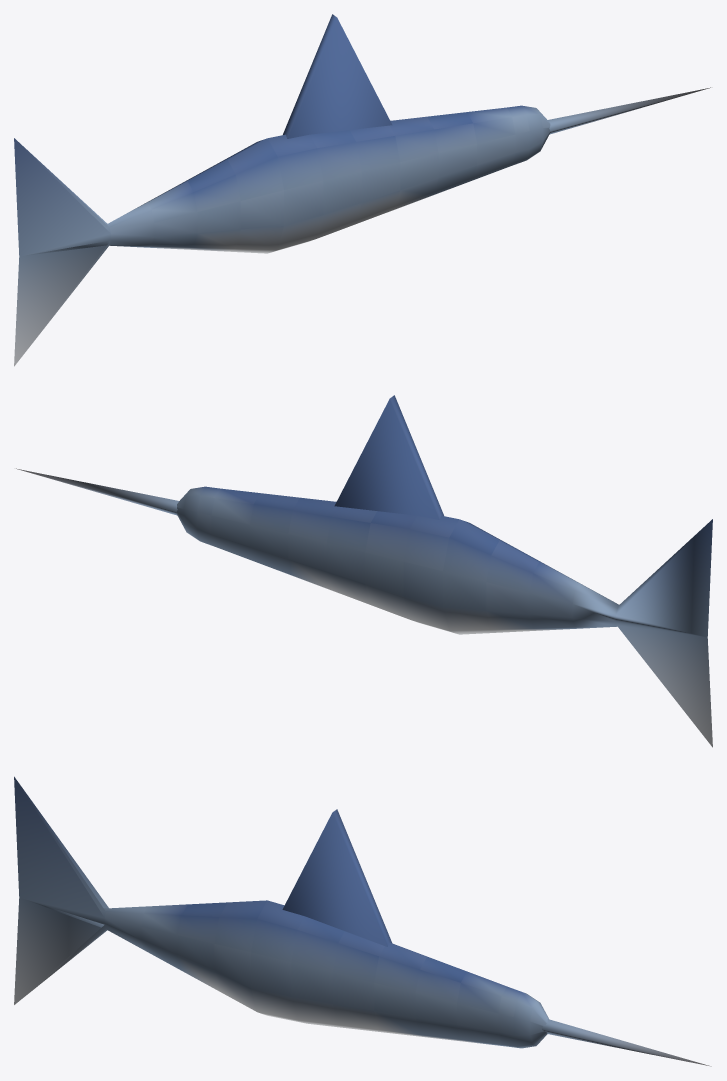
The model's file is Marlin.glb.
The picture shows the model from 3 angles, top to bottom: view 1: azimuth 30°, elevation 25°; view 2: azimuth 150°, elevation 25°; view 3: azimuth 330°, elevation 25°; orthographic projection.
Visible parts, largest first — view 1: Marlin; view 2: Marlin; view 3: Marlin.
Part boxes in pixels (box(x1,y1,x2,y2)): Marlin: box(14, 14, 710, 366); Marlin: box(16, 395, 712, 747); Marlin: box(14, 776, 711, 1066).
Bounding box in the file's own units: 1.34 × 0.5 × 0.1097.
